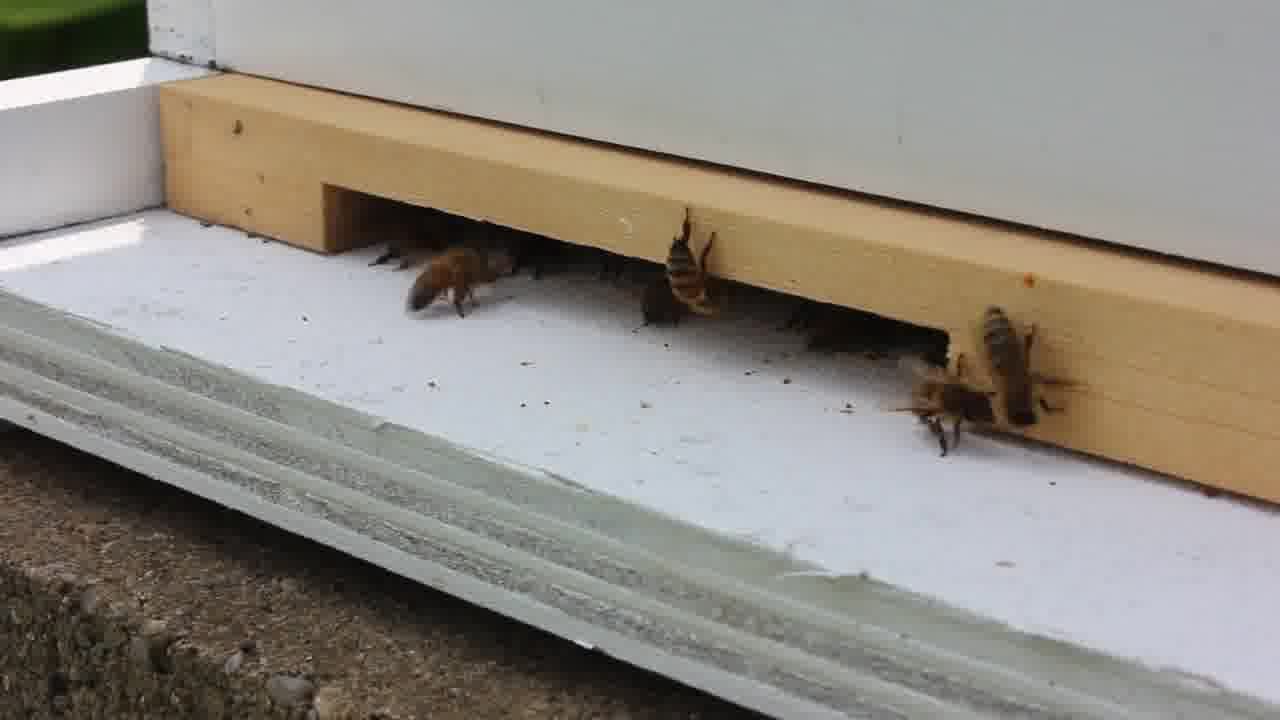pollen: (405, 246, 496, 317)
